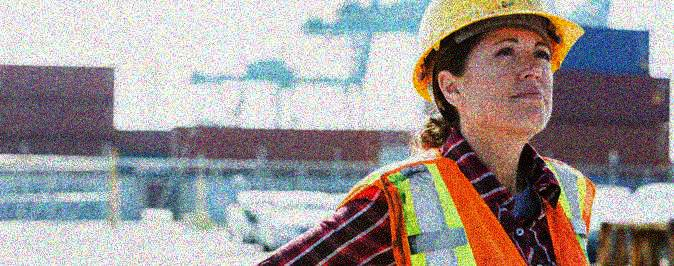helmet: (409, 1, 589, 135)
